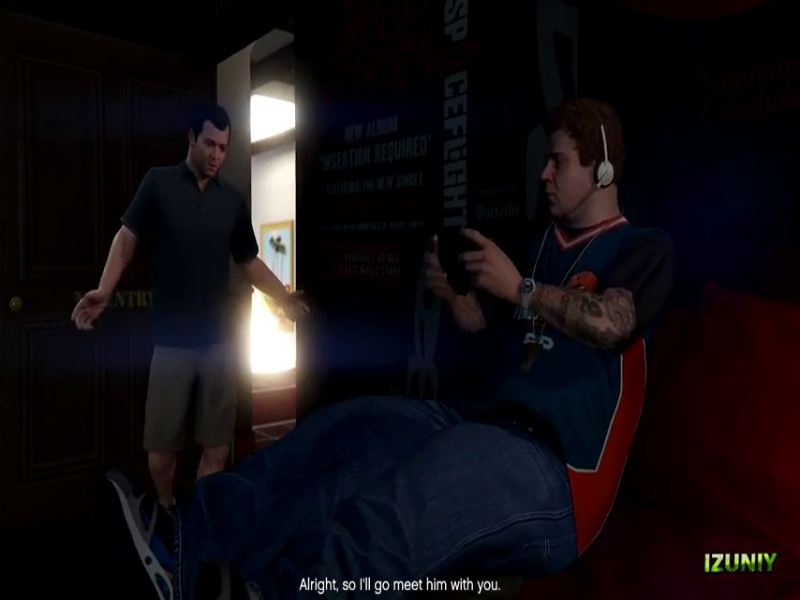human: (91, 124, 267, 539)
